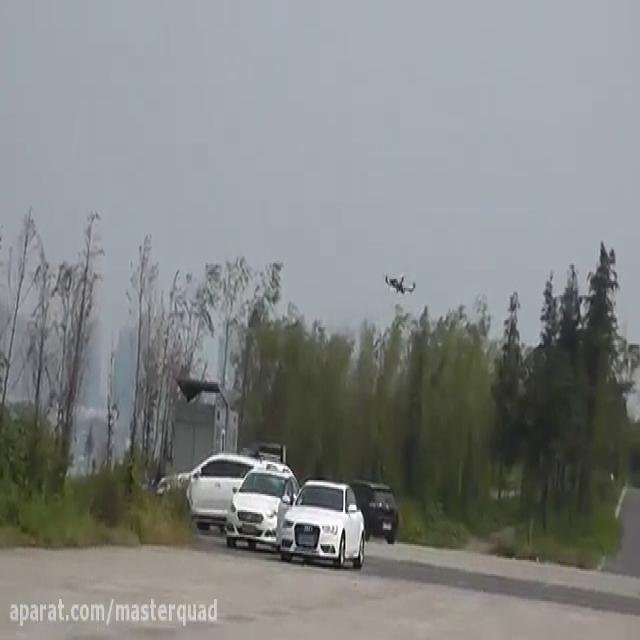drone: (382, 266, 418, 298)
